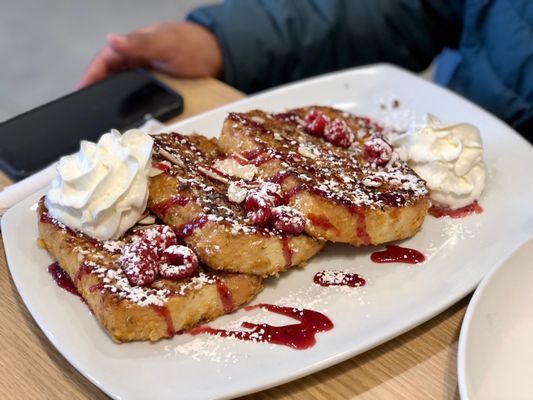sandwich: (0, 67, 185, 184)
